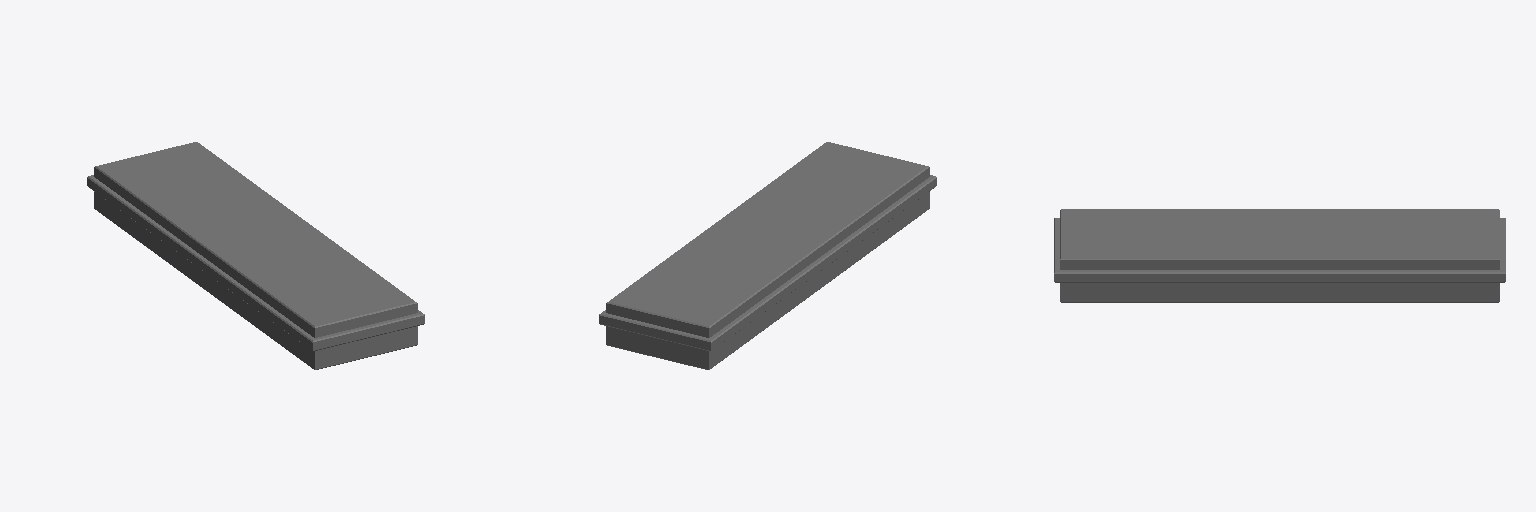
The model's file is reef_frame.obj.
3 views of the same model, side by side, from view 1: azimuth 30°, elevation 25°; view 2: azimuth 150°, elevation 25°; view 3: azimuth 270°, elevation 25° (orthographic).
Parts seen in each view (by area): view 1: DoorFrame reef_Gate; view 2: DoorFrame reef_Gate; view 3: DoorFrame reef_Gate.
Boxes of the visible parts, box(x1,y1,x2,y2) form: DoorFrame reef_Gate: box(87, 142, 424, 369); DoorFrame reef_Gate: box(599, 142, 936, 369); DoorFrame reef_Gate: box(1054, 209, 1505, 302).
Bounding box in the file's own units: 2.42 × 0.899 × 8.39.